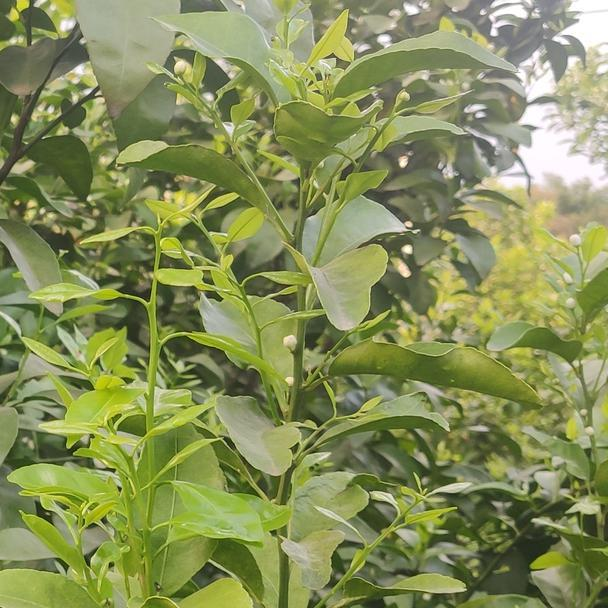shoot: (39, 404, 229, 573), (72, 188, 231, 367), (175, 229, 332, 369), (324, 476, 458, 565)
